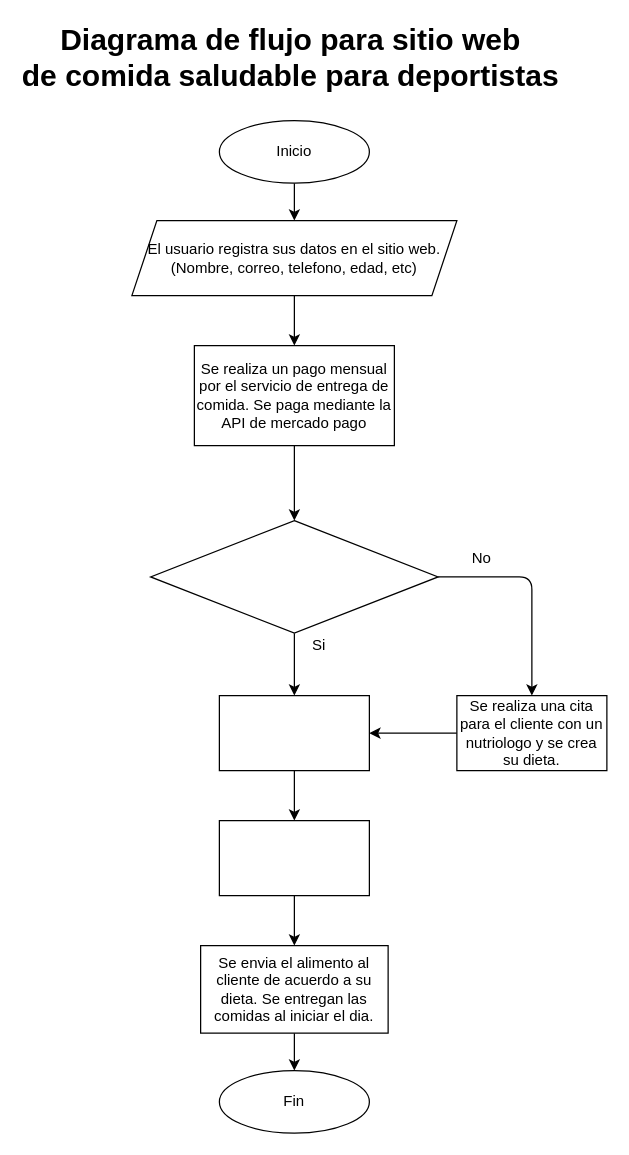
Some shapes in this 629 by 1155 pixel diagram are drawn without their labels. Here are the shapes that lost their labels. From the top down, the centre of each, then its label:
At (293,576): "¿El usuario ya tiene una dieta personalizada?".
At (293,732): "Se compran todos los ingredientes necesarios para cumplir con la dieta.".
At (293,857): "Se preparan los alimentos un dia antes.".
